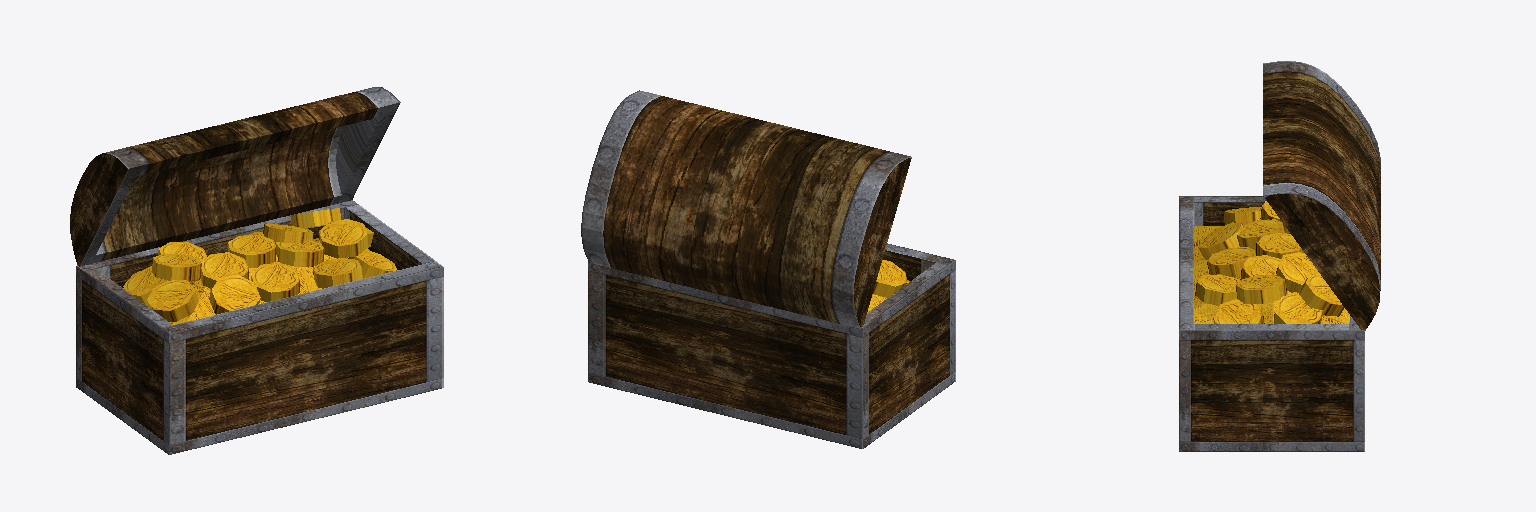
3 renders of one model, left to right at view 1: azimuth 30°, elevation 25°; view 2: azimuth 150°, elevation 25°; view 3: azimuth 270°, elevation 25°, orthographic.
Parts seen in each view (by area): view 1: Box03, Line04, Cylinder13, Cylinder21, Cylinder10, Cylinder14, Box04, Cylinder06, Cylinder15, Cylinder18, Cylinder11, Cylinder09 (+5 smaller); view 2: Line04, Box03, Cylinder13; view 3: Box03, Line04, Box04, Cylinder21, Cylinder20, Cylinder19, Cylinder18, Cylinder17, Cylinder10, Cylinder16, Cylinder14, Cylinder06 (+3 smaller).
Part boxes in pixels (x1,y1,x2,y2): Box03: (76,200,443,454); Line04: (70,87,400,266); Cylinder13: (147,280,198,321); Cylinder21: (319,219,368,258); Cylinder10: (251,262,299,301); Cylinder14: (209,275,260,314); Box04: (123,238,369,324); Cylinder06: (228,235,275,268); Cylinder15: (152,254,201,281); Cylinder18: (313,258,362,288); Cylinder11: (200,252,248,289); Cylinder09: (276,240,324,266); Line04: (581,90,911,328); Box03: (588,243,955,448); Cylinder13: (873,260,906,297); Box03: (1179,196,1364,451); Line04: (1263,61,1380,330); Box04: (1194,226,1349,323); Cylinder21: (1236,275,1286,303); Cylinder20: (1299,275,1344,316); Cylinder19: (1274,292,1322,323); Cylinder18: (1195,274,1239,305); Cylinder17: (1276,252,1320,292); Cylinder10: (1207,247,1255,277); Cylinder16: (1213,298,1264,323); Cylinder14: (1198,222,1243,259); Cylinder06: (1256,233,1303,258).
Bounding box in the file's own units: 24.06 × 21.59 × 15.26.
Materials: 2 (2 with a texture image).